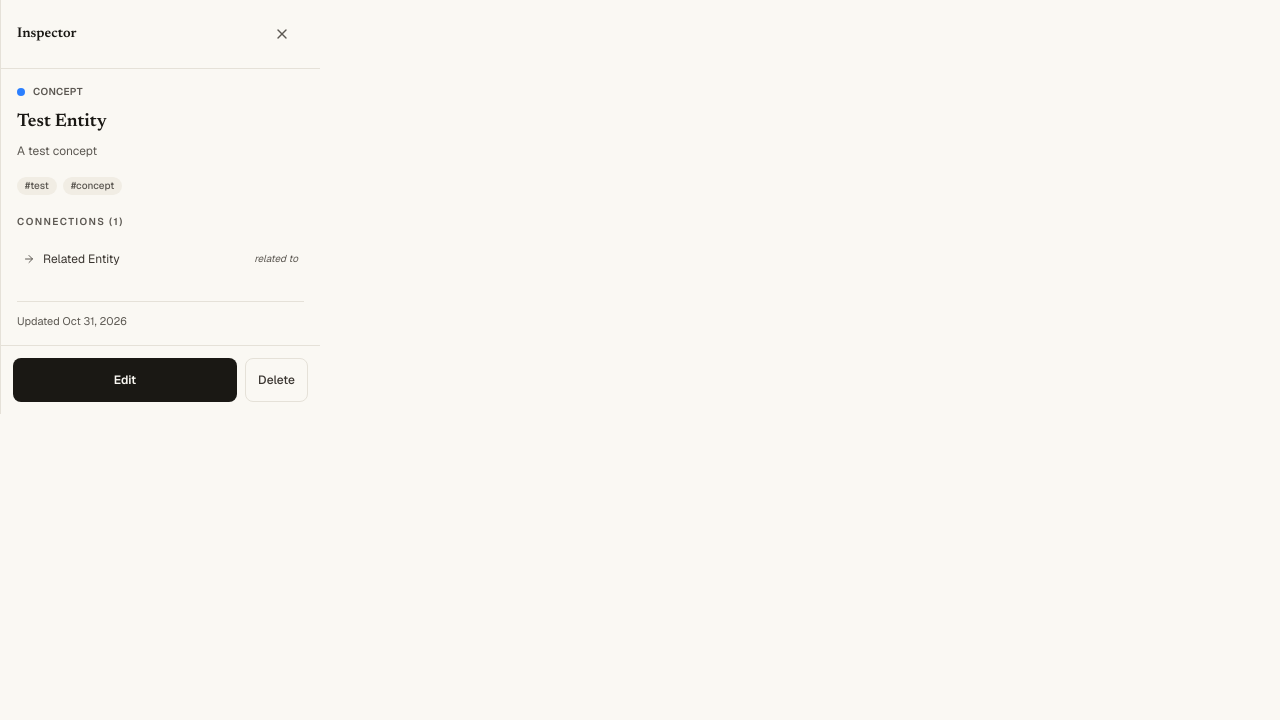
Test: RightPanel › Cancel button closes delete dialog
Step 1. Click the button "Delete" → click(277, 380), box left=245, top=358, right=308, bottom=402
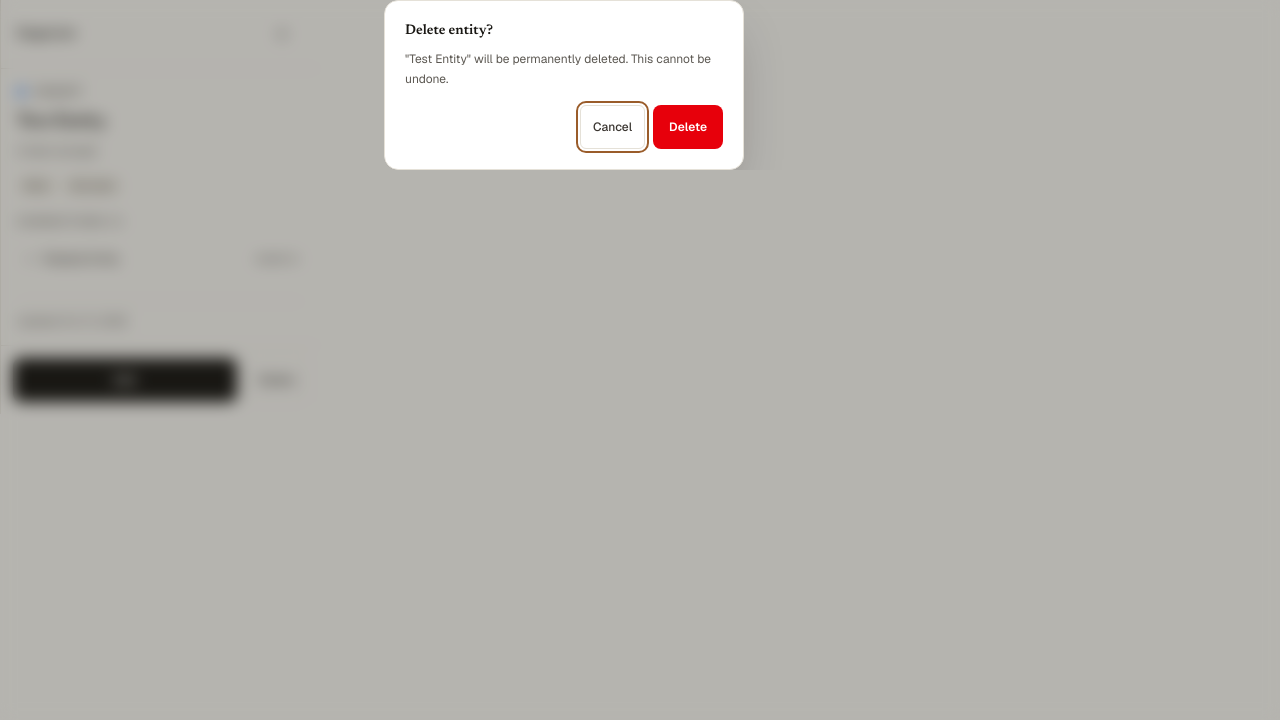
Step 2. Click the button "Cancel" → click(613, 127), box left=580, top=105, right=645, bottom=149
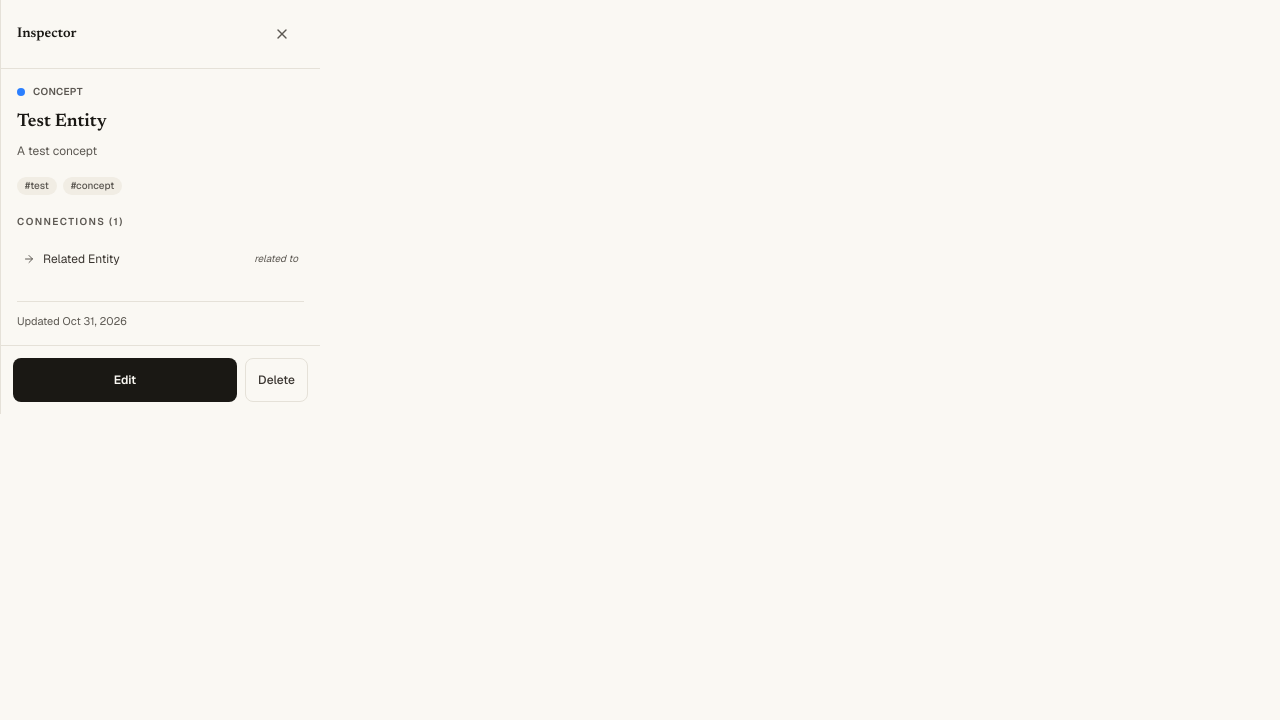
Expected: the heading "Delete entity?" is gone
